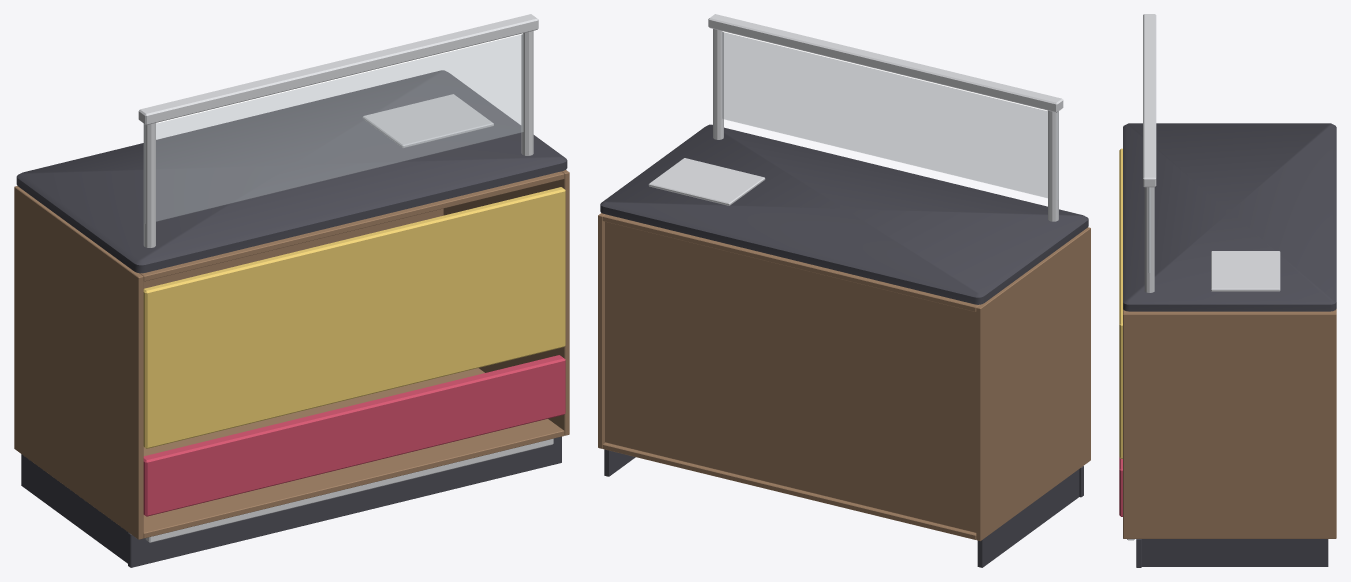
File: cinema-multiplex-and-foyer-concessions-counter-module-472474ee__34674.glb
The picture shows the model from 3 angles, left to right: view 1: azimuth 30°, elevation 25°; view 2: azimuth 150°, elevation 25°; view 3: azimuth 270°, elevation 25°; orthographic projection. The views are drawn at different scales.
Visible parts, largest first — view 1: concessions-counter-module; view 2: concessions-counter-module; view 3: concessions-counter-module.
Boxes of the visible parts, bbox=[...] form: concessions-counter-module: bbox=[14, 14, 569, 567]; concessions-counter-module: bbox=[598, 14, 1090, 567]; concessions-counter-module: bbox=[1119, 14, 1336, 567].
Bounding box in the file's own units: 1.6 × 1.58 × 0.8131.
